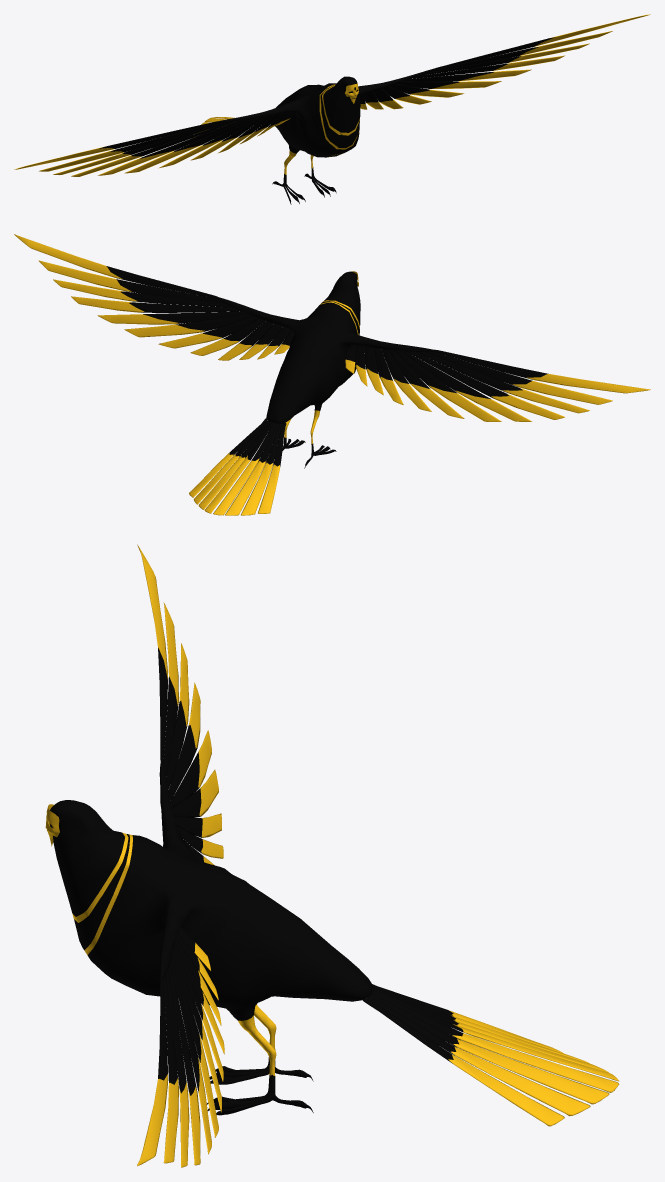
The model's file is ave3.obj.
The picture shows the model from 3 angles, top to bottom: view 1: azimuth 30°, elevation 25°; view 2: azimuth 150°, elevation 25°; view 3: azimuth 270°, elevation 25°; orthographic projection. The views are drawn at different scales.
Visible parts, largest first — view 1: passarinho_gigante_mascarado:Mesh; view 2: passarinho_gigante_mascarado:Mesh; view 3: passarinho_gigante_mascarado:Mesh.
Part boxes in pixels (box(x1,y1,x2,y2)): passarinho_gigante_mascarado:Mesh: box(14, 14, 650, 204); passarinho_gigante_mascarado:Mesh: box(14, 234, 650, 515); passarinho_gigante_mascarado:Mesh: box(45, 544, 619, 1167).
Bounding box in the file's own units: 2.55 × 0.5655 × 0.9928.
Materials: 1 (1 with a texture image).
